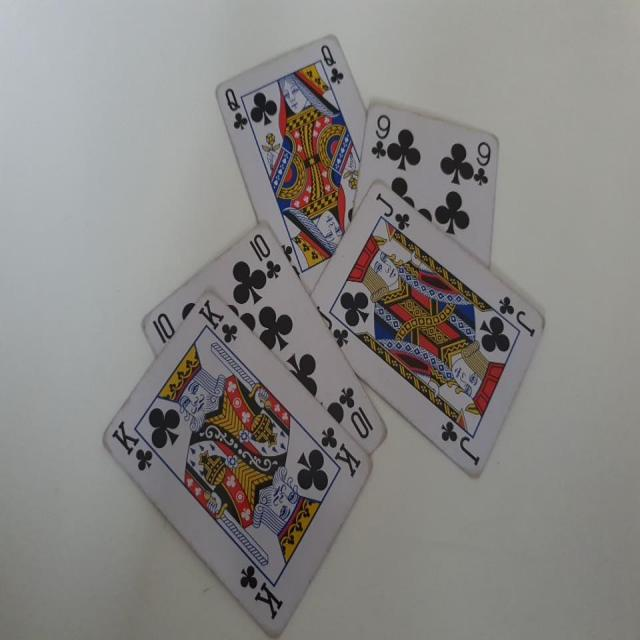10 Trefoils: (141, 217, 388, 454)
9 Trefoils: (347, 103, 498, 269)
J Trefoils: (309, 176, 547, 481)
K Trefoils: (96, 286, 372, 640)
Q Trefoils: (215, 30, 366, 278)
